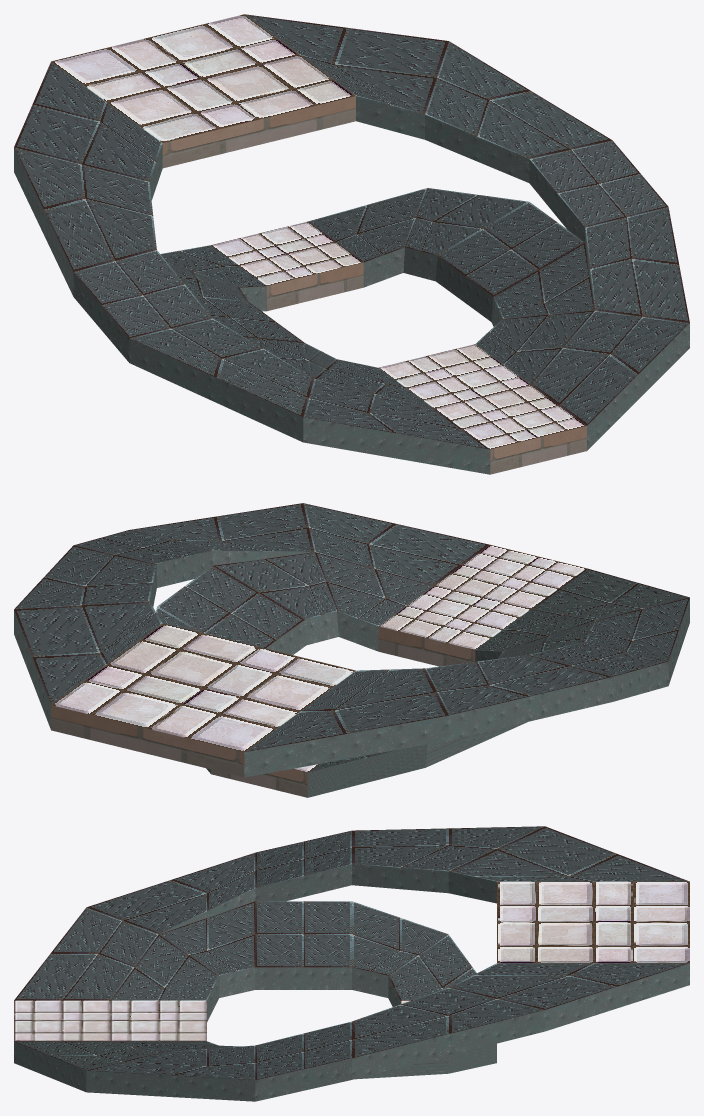
File: a_couple_rings.glb
The picture shows the model from 3 angles, top to bottom: view 1: azimuth 30°, elevation 25°; view 2: azimuth 150°, elevation 25°; view 3: azimuth 270°, elevation 25°; orthographic projection. The views are drawn at different scales.
Visible parts, largest first — view 1: FinalMesh-col; view 2: FinalMesh-col; view 3: FinalMesh-col.
Part boxes in pixels (x1,y1,x2,y2): FinalMesh-col: (14, 14, 689, 474); FinalMesh-col: (14, 503, 689, 797); FinalMesh-col: (14, 826, 689, 1101).
Bounding box in the file's own units: 22.31 × 5.7 × 28.
Materials: 4 (4 with a texture image).
